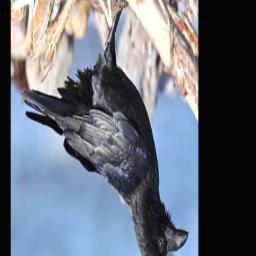Crow: (21, 0, 189, 256)
